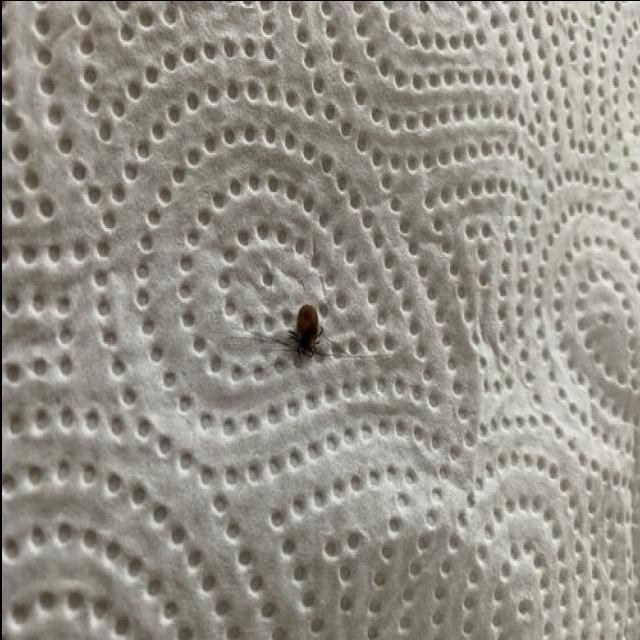Ixodes Ricinus-F: (279, 297, 324, 369)
